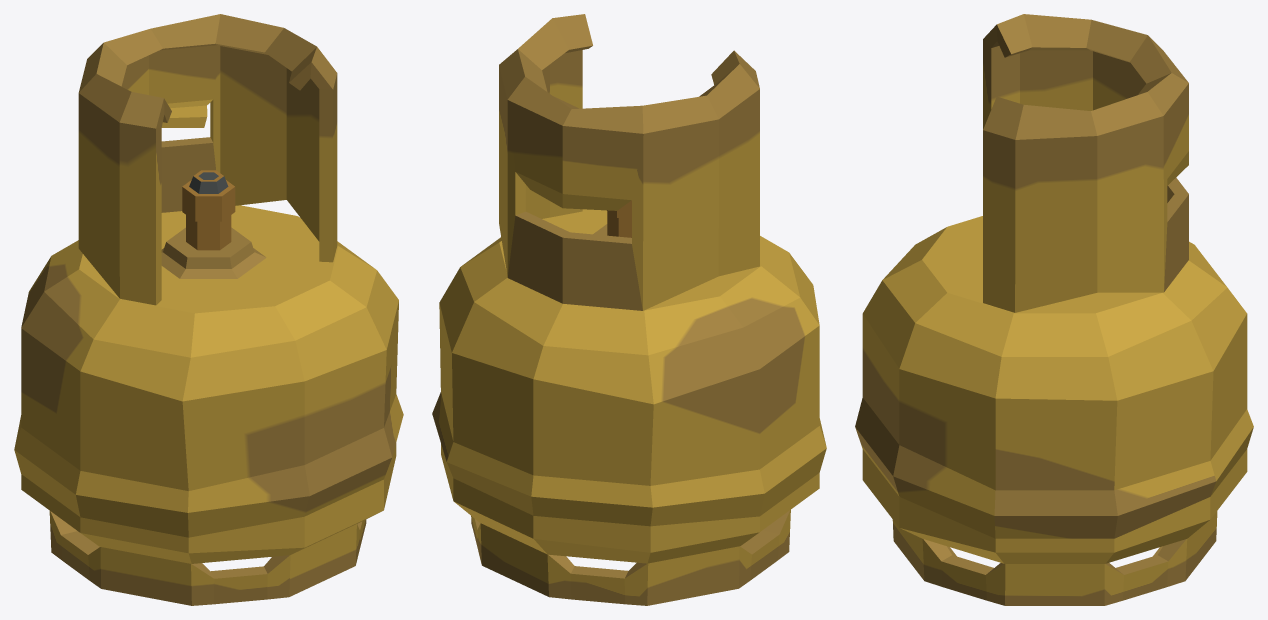
The model's file is SM_Barrel_B_03.gltf.
3 renders of one model, left to right at view 1: azimuth 30°, elevation 25°; view 2: azimuth 150°, elevation 25°; view 3: azimuth 270°, elevation 25°, orthographic.
Visible parts, largest first — view 1: SM_Barrel_B_03; view 2: SM_Barrel_B_03; view 3: SM_Barrel_B_03.
Boxes of the visible parts, left/top/right/bottom form: SM_Barrel_B_03: left=14, top=14, right=403, bottom=605; SM_Barrel_B_03: left=432, top=14, right=826, bottom=605; SM_Barrel_B_03: left=855, top=14, right=1253, bottom=605.
Bounding box in the file's own units: 0.3662 × 0.5139 × 0.3839.
1 material, 1 textured.
